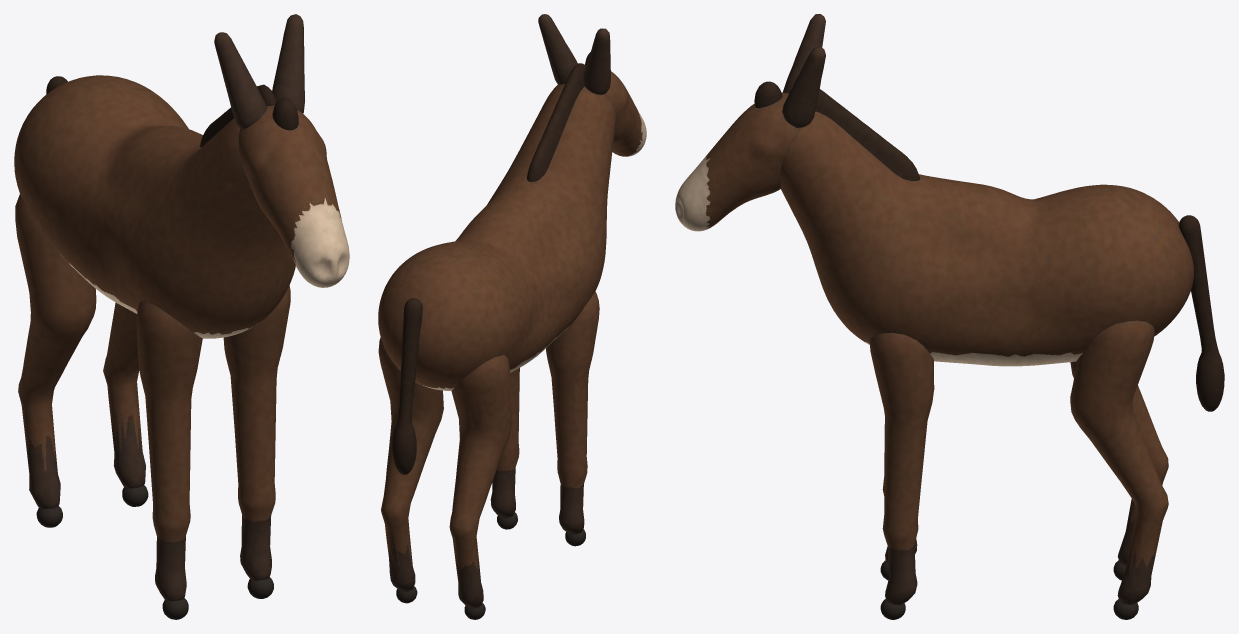
The model's file is animal_mule.glb.
The picture shows the model from 3 angles, left to right: view 1: azimuth 30°, elevation 25°; view 2: azimuth 150°, elevation 25°; view 3: azimuth 270°, elevation 25°; orthographic projection. The views are drawn at different scales.
Visible parts, largest first — view 1: animal_mule, head, leg0, leg2, leg1, leg3; view 2: animal_mule, leg2, leg0, leg3, head, tail, leg1; view 3: animal_mule, leg3, head, leg1, tail, leg2.
Part boxes in pixels (bbox=[...]): animal_mule: bbox=[14, 75, 295, 338]; head: bbox=[214, 14, 349, 287]; leg0: bbox=[136, 301, 202, 619]; leg2: bbox=[15, 194, 96, 527]; leg1: bbox=[223, 285, 290, 598]; leg3: bbox=[103, 302, 148, 506]; animal_mule: bbox=[378, 63, 615, 390]; leg2: bbox=[449, 355, 512, 619]; leg0: bbox=[546, 292, 599, 546]; leg3: bbox=[378, 337, 443, 603]; head: bbox=[538, 14, 646, 156]; tail: bbox=[392, 298, 422, 474]; leg1: bbox=[490, 368, 519, 529]; animal_mule: bbox=[780, 89, 1193, 366]; leg3: bbox=[1070, 320, 1168, 619]; head: bbox=[675, 14, 825, 231]; leg1: bbox=[869, 332, 934, 619]; tail: bbox=[1179, 215, 1224, 411]; leg2: bbox=[1070, 361, 1168, 580].
Size of the model in its own units: 0.2127 by 0.8105 by 0.7093.
Materials: 1 (1 with a texture image).
